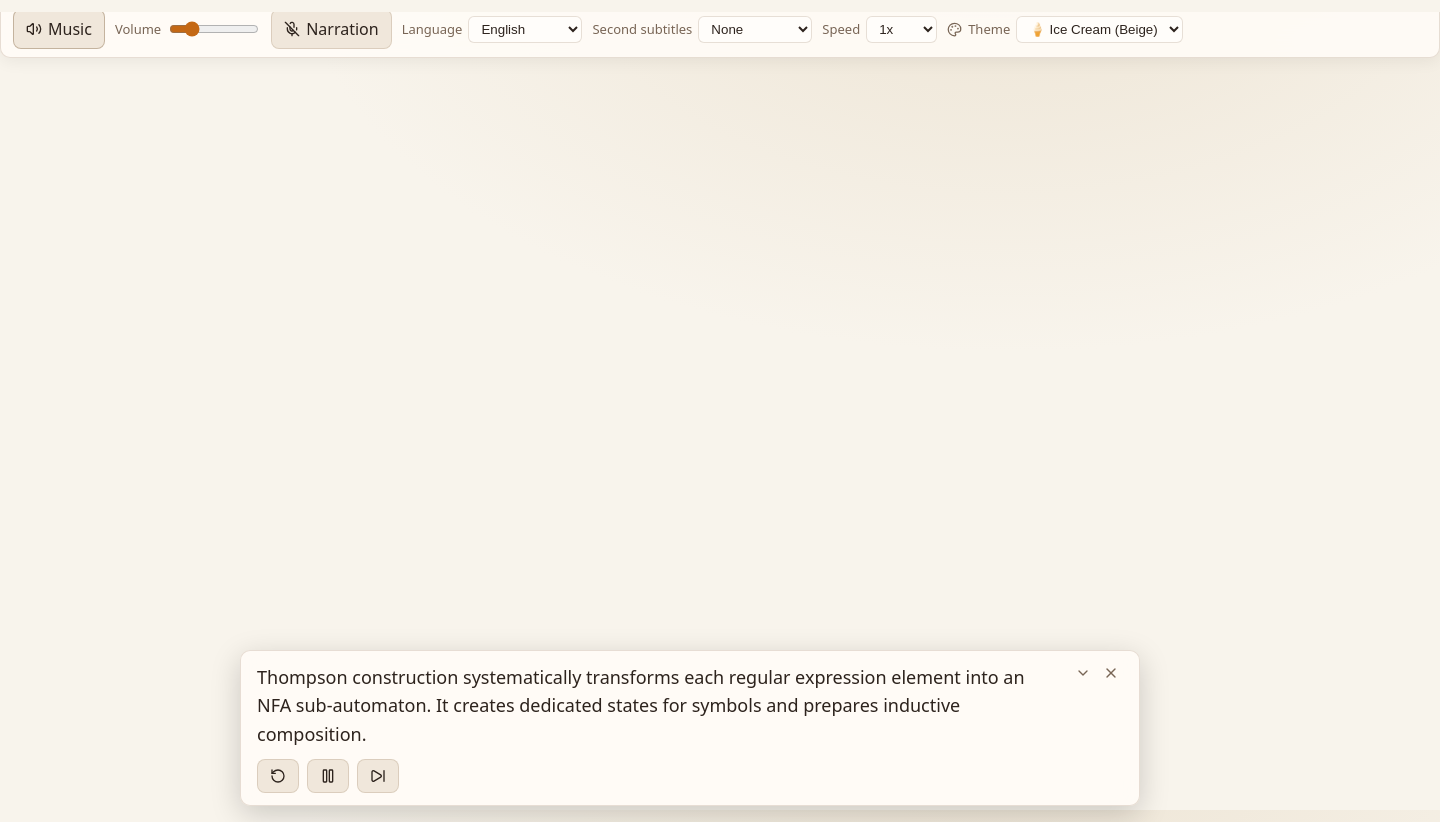
Test: UI › switching language changes the subtitles, direction and shows the AI-translated badge
The width and height of the screenshot is (1440, 822).
Check: the text "Thompson construction systematically transforms each regular expression element into an NFA sub-automaton. It creates de" is shown, box 257,665 -> 1025,746
Select "اردو (Urdu)" in the dropdown named "Subtitle and voice language": (525, 29) 468,16 -> 582,42
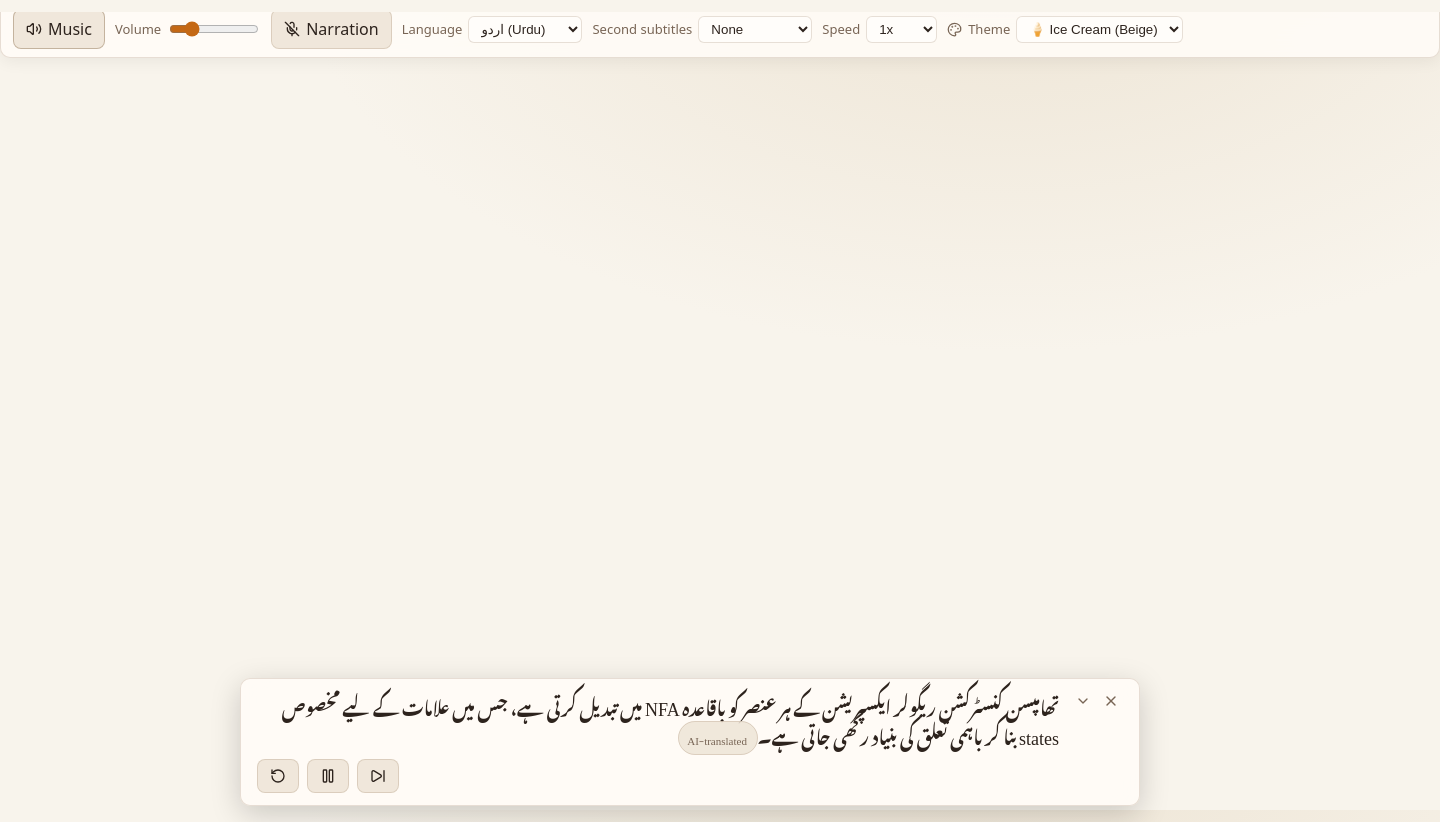
Check: the text "Thompson construction systematically transforms each regular expression element into an NFA sub-automaton. It creates de" is gone
Check: the text "AI-translated" is shown, box 678,721 -> 758,755
Select "English" in the dropdown named "Second subtitle language": (755, 29) 698,16 -> 812,42
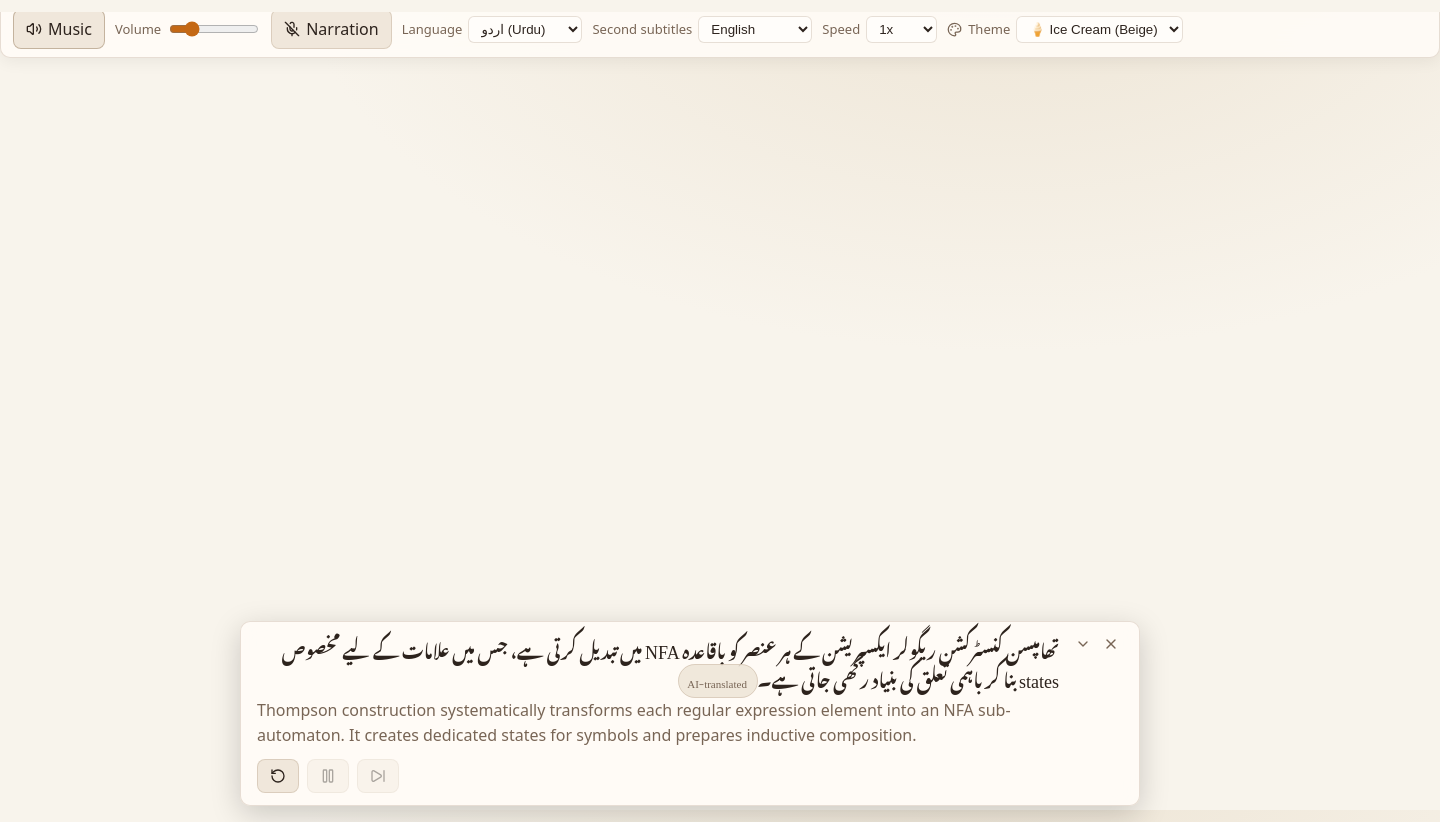
Check: the text "Thompson construction systematically transforms each regular expression element into an NFA sub-automaton. It creates de" is shown, box 257,699 -> 1010,746
